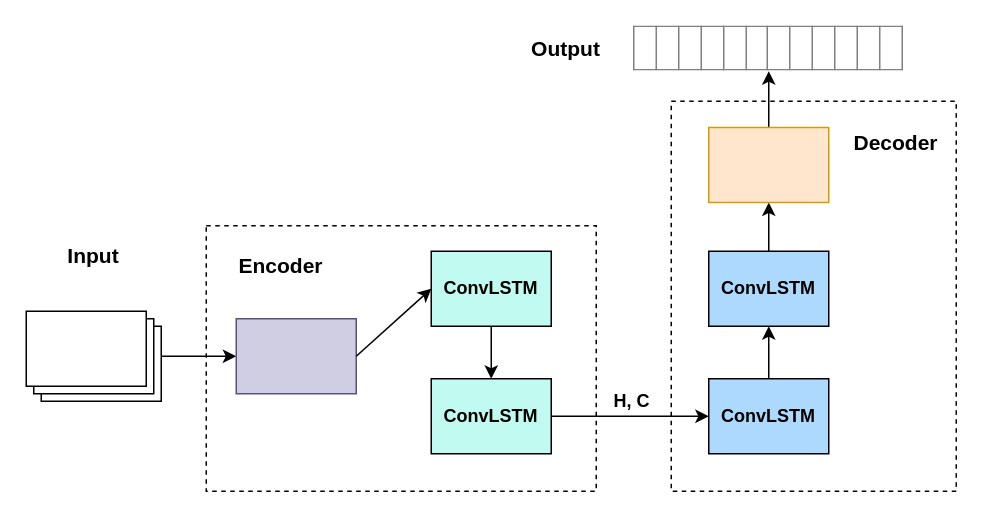
This 983x518 diagram has some shape labels left out. The shapes that lost their labels are listed below. From the top down, each one's centre as x and y in pixels, then its label:
point 768,164: MLP
point 295,355: CNN
